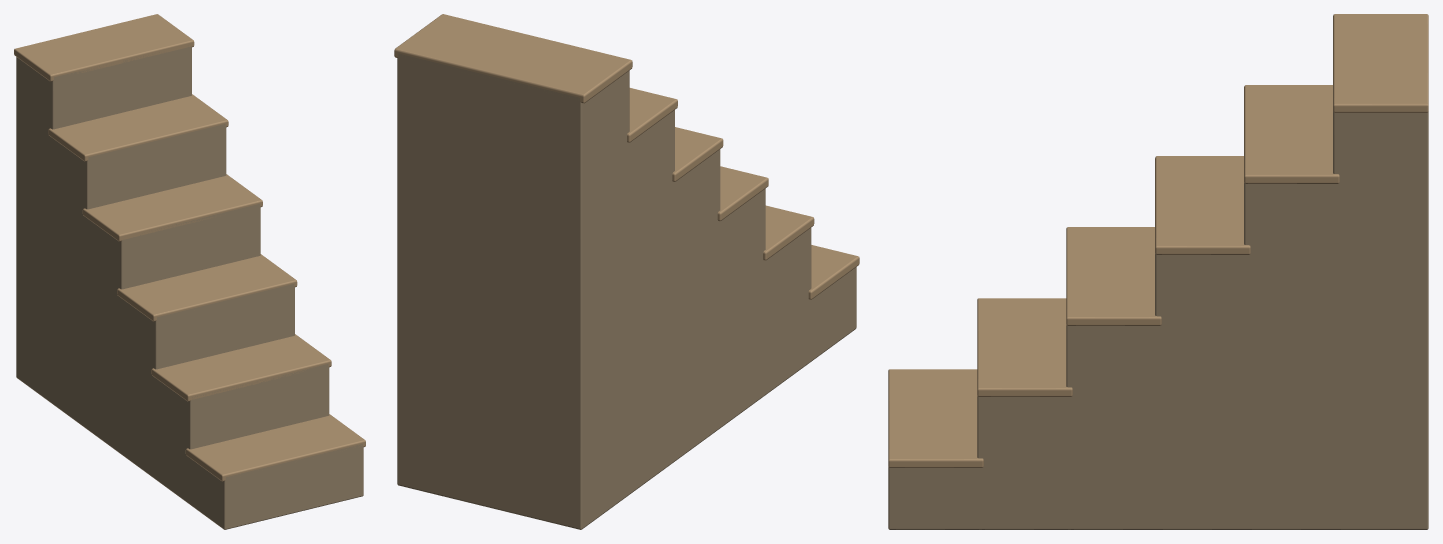
The model's file is stairs.glb.
The picture shows the model from 3 angles, left to right: view 1: azimuth 30°, elevation 25°; view 2: azimuth 150°, elevation 25°; view 3: azimuth 270°, elevation 25°; orthographic projection. The views are drawn at different scales.
Parts seen in each view (by area): view 1: solid-step-5, solid-step-4, solid-step-3, solid-step-2, solid-step-1, solid-step-0, tread-5, tread-1, tread-3, tread-0, tread-2, tread-4; view 2: solid-step-5, solid-step-4, solid-step-3, tread-5, solid-step-2, solid-step-1, solid-step-0, tread-1, tread-2, tread-4, tread-0, tread-3; view 3: solid-step-5, solid-step-4, solid-step-3, solid-step-2, solid-step-1, tread-5, tread-0, tread-1, tread-2, tread-3, tread-4, solid-step-0.
Part boxes in pixels (x1=…): solid-step-5: x1=16, y1=44, x2=191, y2=402; solid-step-4: x1=50, y1=124, x2=226, y2=427; solid-step-3: x1=85, y1=204, x2=260, y2=453; solid-step-2: x1=119, y1=284, x2=294, y2=478; solid-step-1: x1=154, y1=364, x2=329, y2=502; solid-step-0: x1=188, y1=444, x2=363, y2=529; tread-5: x1=14, y1=14, x2=194, y2=81; tread-1: x1=151, y1=334, x2=331, y2=401; tread-3: x1=82, y1=174, x2=262, y2=241; tread-0: x1=185, y1=414, x2=365, y2=481; tread-2: x1=117, y1=254, x2=297, y2=321; tread-4: x1=48, y1=94, x2=228, y2=161; solid-step-5: x1=397, y1=53, x2=629, y2=529; solid-step-4: x1=627, y1=110, x2=674, y2=495; solid-step-3: x1=674, y1=149, x2=720, y2=461; tread-5: x1=394, y1=14, x2=632, y2=103; solid-step-2: x1=718, y1=188, x2=765, y2=429; solid-step-1: x1=765, y1=228, x2=811, y2=394; solid-step-0: x1=809, y1=267, x2=856, y2=362; tread-1: x1=763, y1=205, x2=814, y2=260; tread-2: x1=717, y1=166, x2=768, y2=221; tread-4: x1=627, y1=88, x2=677, y2=142; tread-0: x1=808, y1=245, x2=859, y2=299; tread-3: x1=672, y1=127, x2=723, y2=181; solid-step-5: x1=1333, y1=111, x2=1428, y2=529; solid-step-4: x1=1244, y1=182, x2=1337, y2=529; solid-step-3: x1=1155, y1=253, x2=1248, y2=529; solid-step-2: x1=1066, y1=325, x2=1159, y2=529; solid-step-1: x1=977, y1=396, x2=1070, y2=529; tread-5: x1=1333, y1=14, x2=1428, y2=112; tread-0: x1=888, y1=369, x2=983, y2=467; tread-1: x1=977, y1=298, x2=1072, y2=396; tread-2: x1=1066, y1=227, x2=1161, y2=325; tread-3: x1=1155, y1=156, x2=1250, y2=254; tread-4: x1=1244, y1=85, x2=1339, y2=183; solid-step-0: x1=888, y1=467, x2=981, y2=529.
Size of the model in its own units: 0.97 by 2.12 by 2.43.
